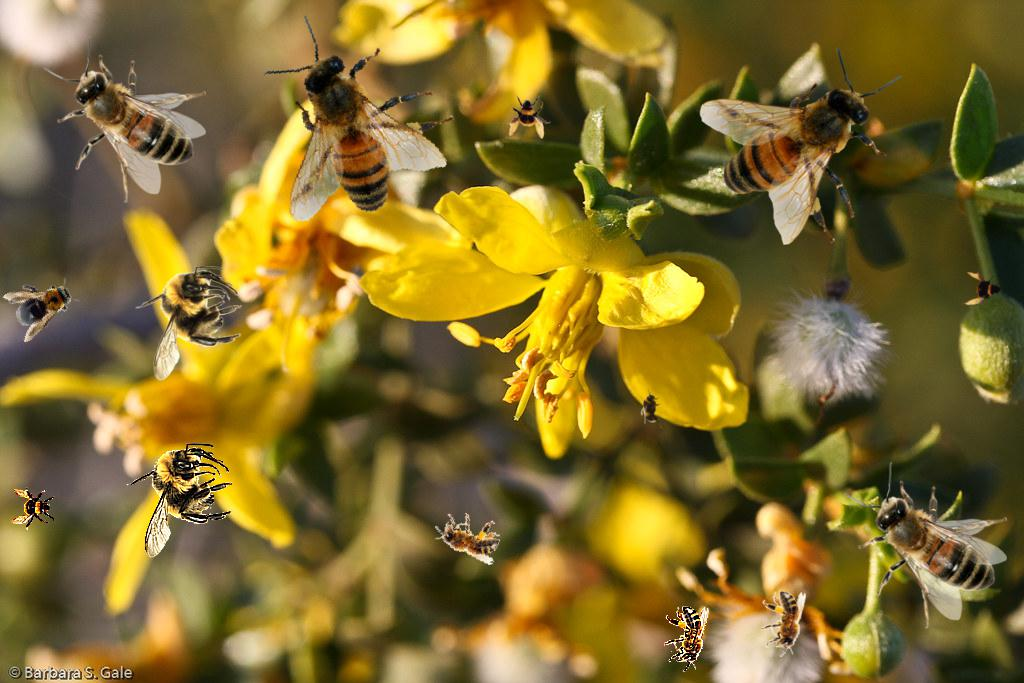Bee: (233, 8, 472, 250), (699, 46, 903, 245), (845, 462, 1007, 629), (44, 36, 206, 203), (135, 266, 242, 381), (126, 443, 233, 558), (0, 265, 86, 343), (429, 507, 505, 566), (761, 591, 806, 657), (664, 606, 709, 672), (963, 269, 1007, 313), (11, 487, 55, 531), (507, 95, 551, 139), (640, 388, 662, 428)
